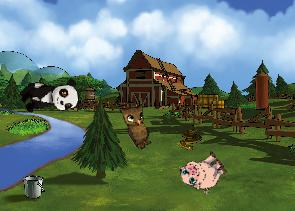owl: (114, 97, 163, 151)
panda: (18, 77, 81, 116)
pig: (175, 144, 231, 199)
